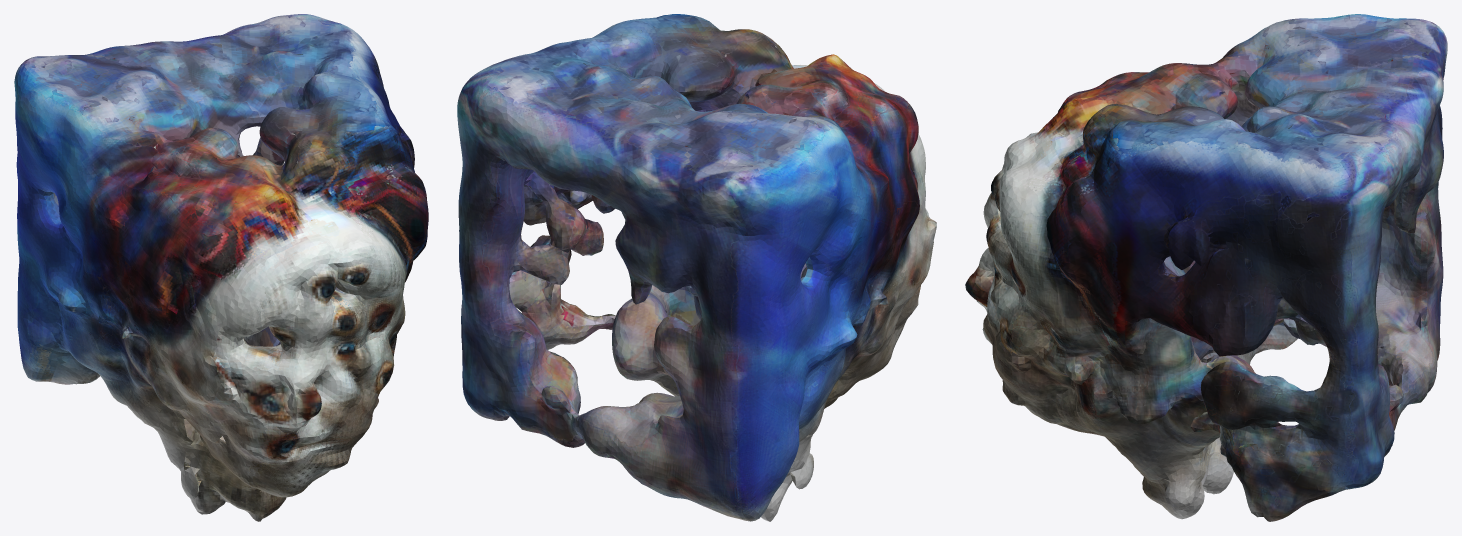
The picture shows the model from 3 angles, left to right: view 1: azimuth 30°, elevation 25°; view 2: azimuth 150°, elevation 25°; view 3: azimuth 270°, elevation 25°; orthographic projection. The views are drawn at different scales.
Bounding box in the file's own units: 1.03 × 1.2 × 1.2.
Materials: 1 (1 with a texture image).
